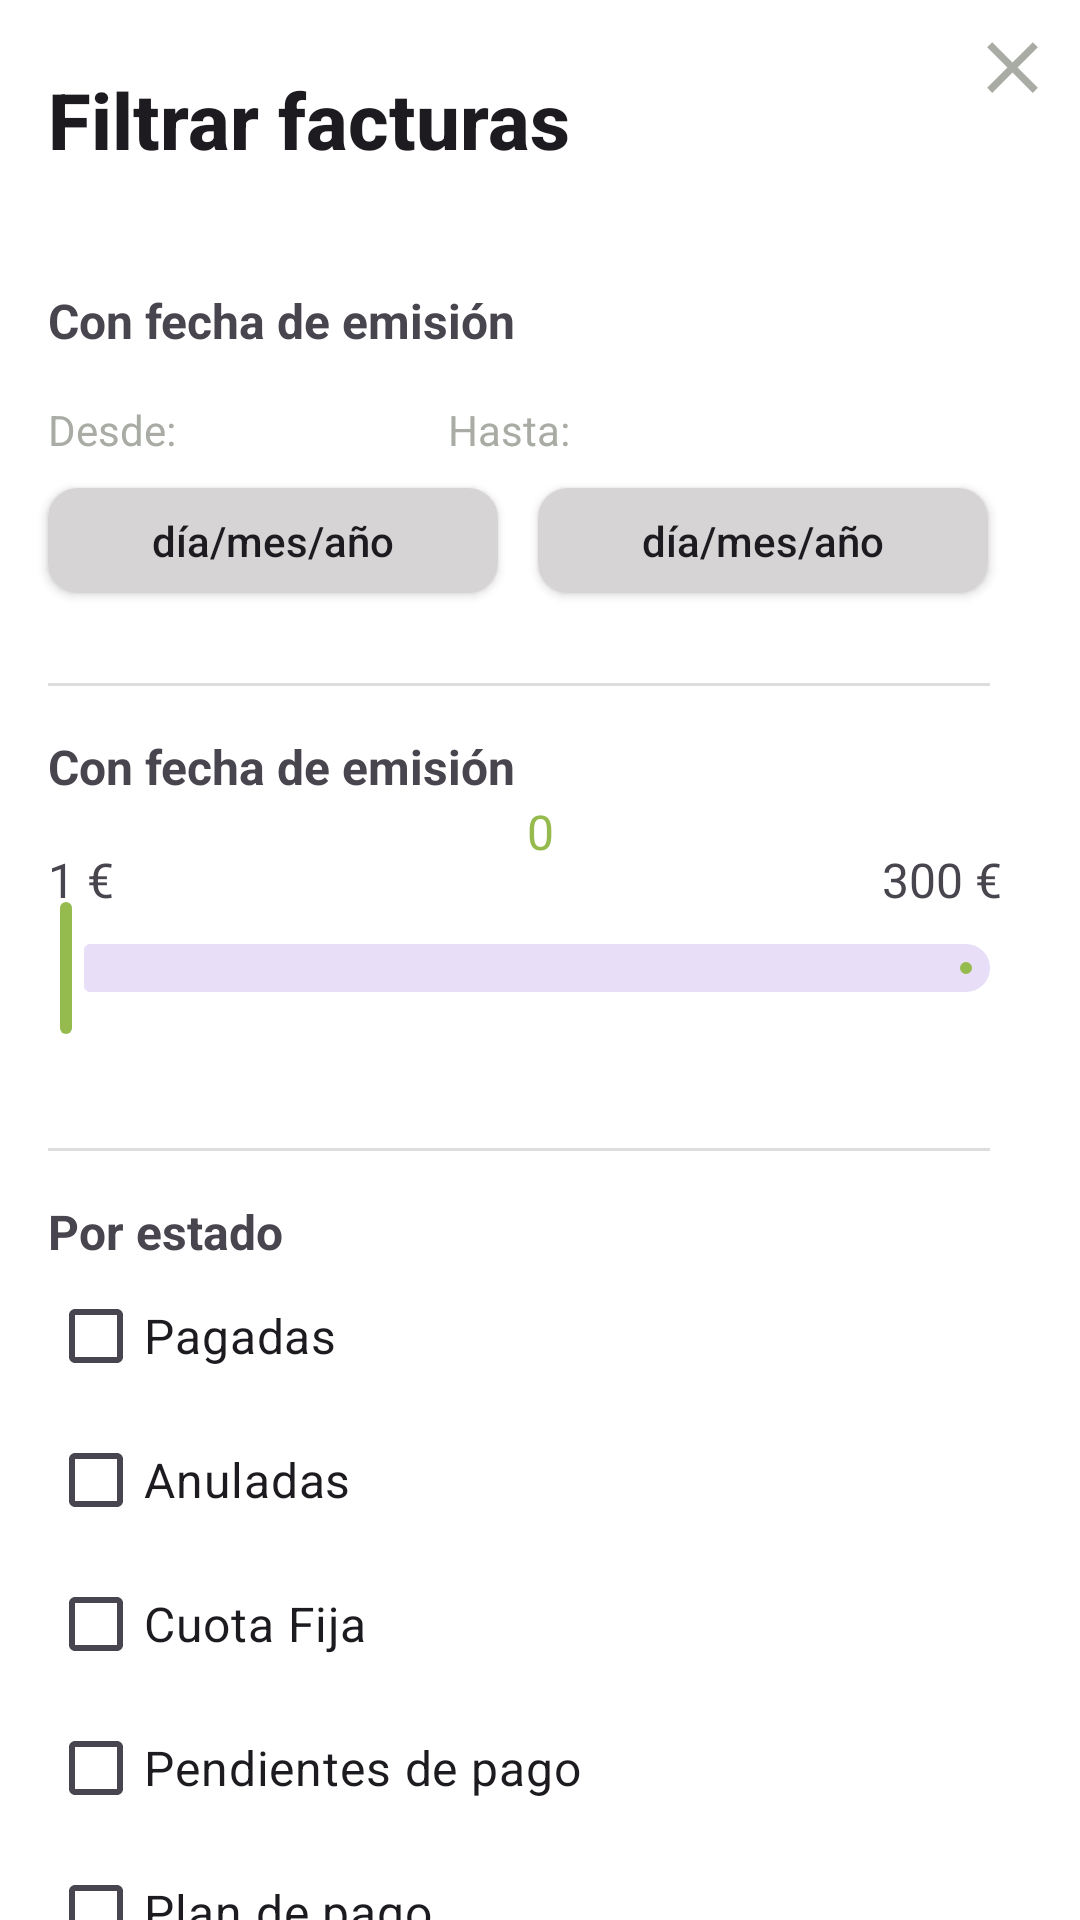

Icon click points for this 1080px x 1920px phone screenshot, format point (x, y):
close: point (1012, 67)
